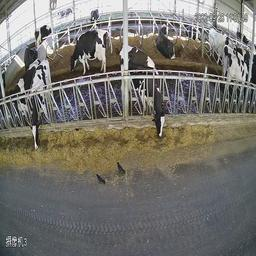cow: (118, 42, 167, 139), (30, 57, 52, 151), (68, 31, 109, 79), (155, 16, 176, 62), (208, 23, 224, 63), (33, 25, 52, 47), (184, 21, 201, 42)
